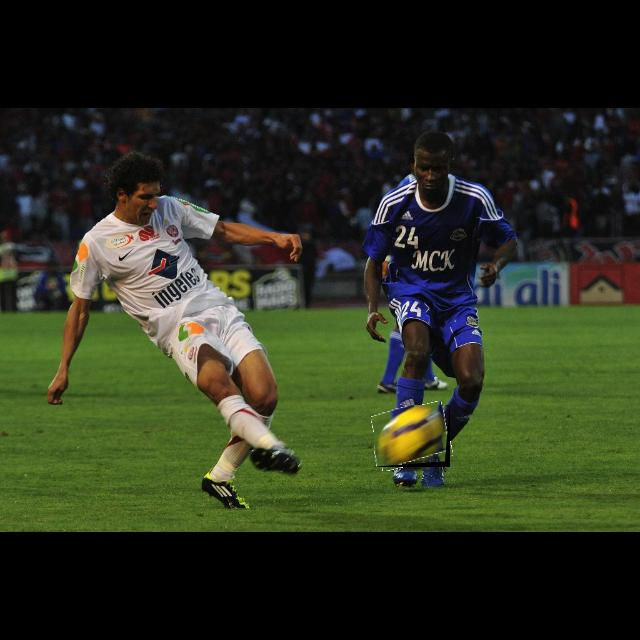Football: (374, 405, 450, 467)
